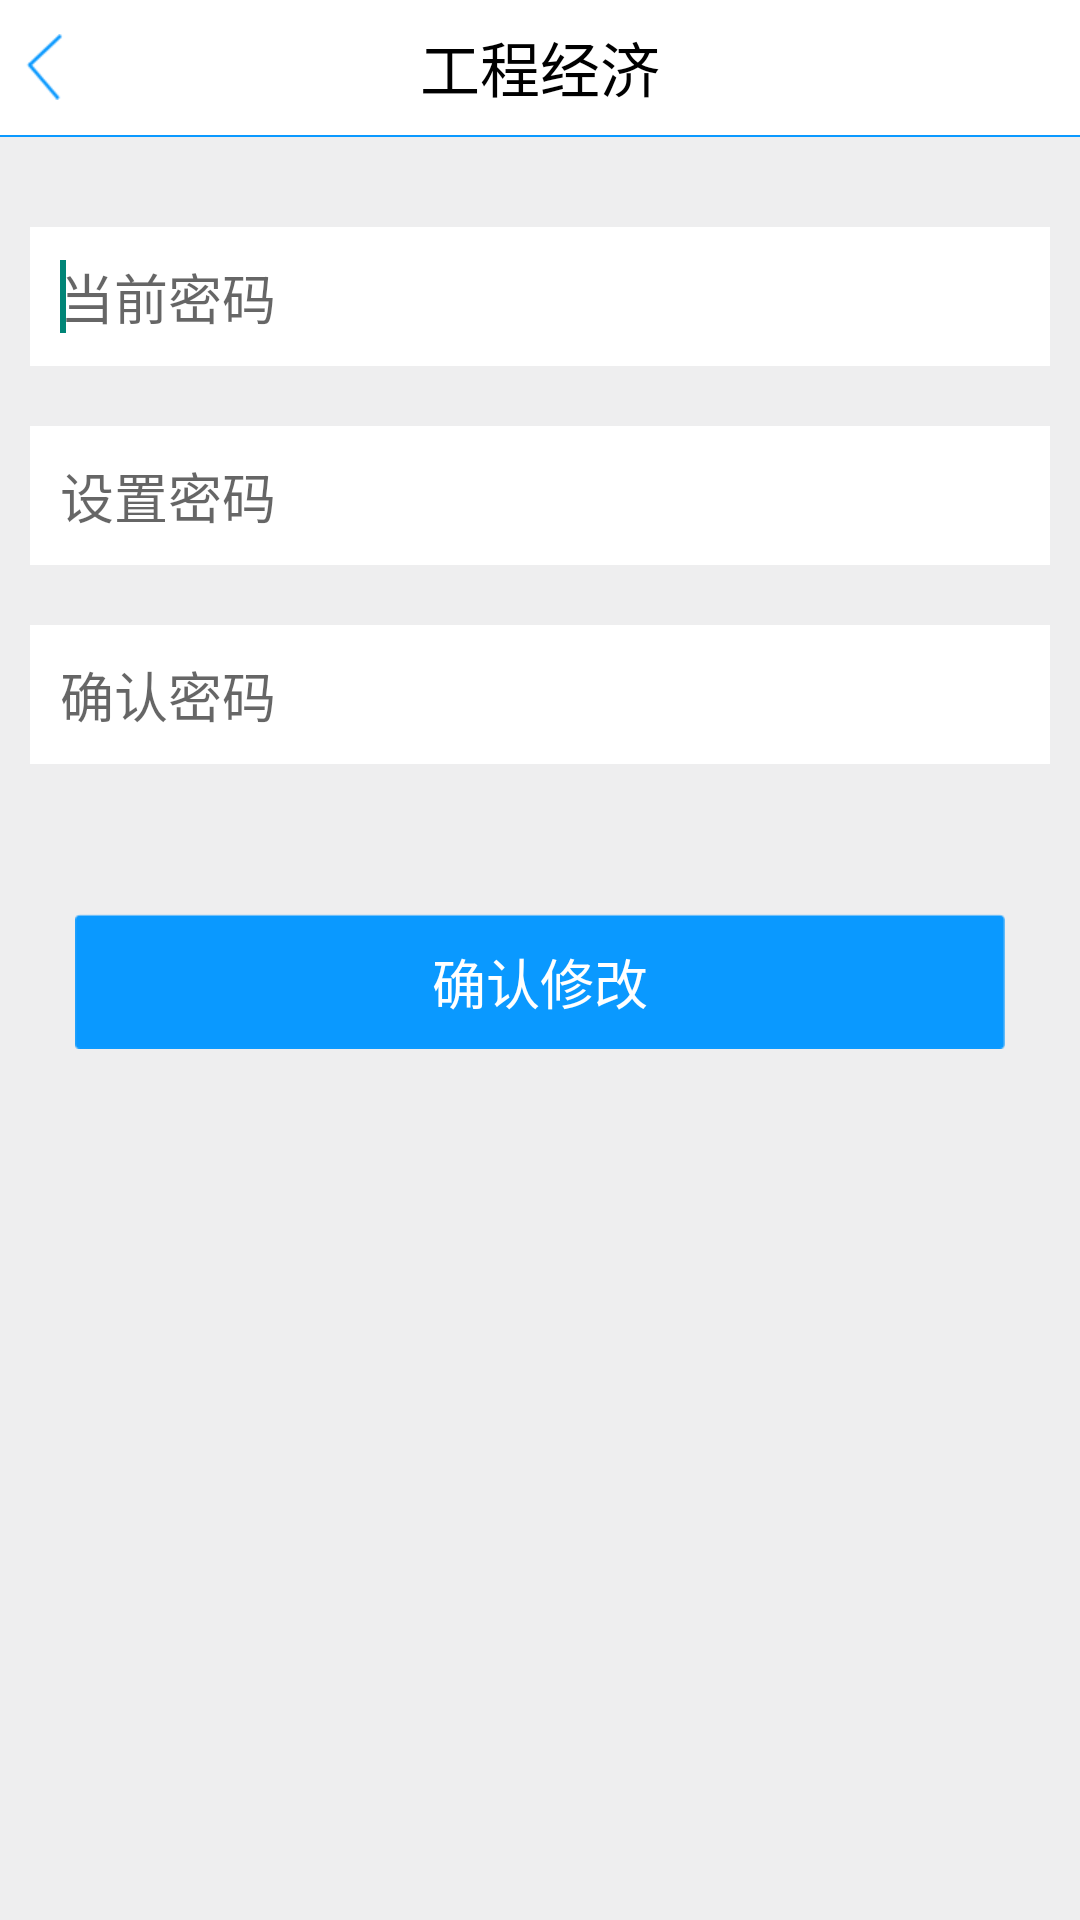

Screen size 1080 x 1920. Icon name, then its box in pixels as bbox(x1, y1, x2, y2):
back: bbox(27, 34, 62, 100)
